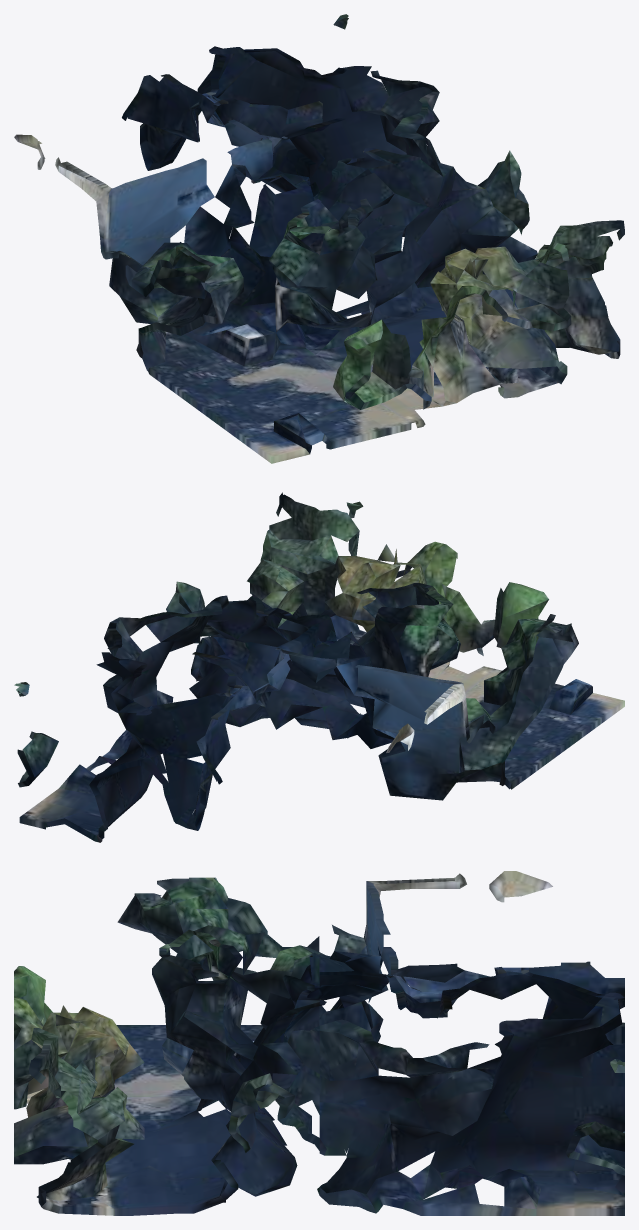
The picture shows the model from 3 angles, top to bottom: view 1: azimuth 30°, elevation 25°; view 2: azimuth 150°, elevation 25°; view 3: azimuth 270°, elevation 25°; orthographic projection. The views are drawn at different scales.
Visible parts, largest first — view 1: 30436272704370404711_0; view 2: 30436272704370404711_0; view 3: 30436272704370404711_0.
Part boxes in pixels (x1,y1,x2,y2): 30436272704370404711_0: (14,14,624,463); 30436272704370404711_0: (14,492,624,842); 30436272704370404711_0: (14,871,624,1215).
Size of the model in its own units: 27.77 by 11.09 by 38.26.
1 material, 1 textured.
